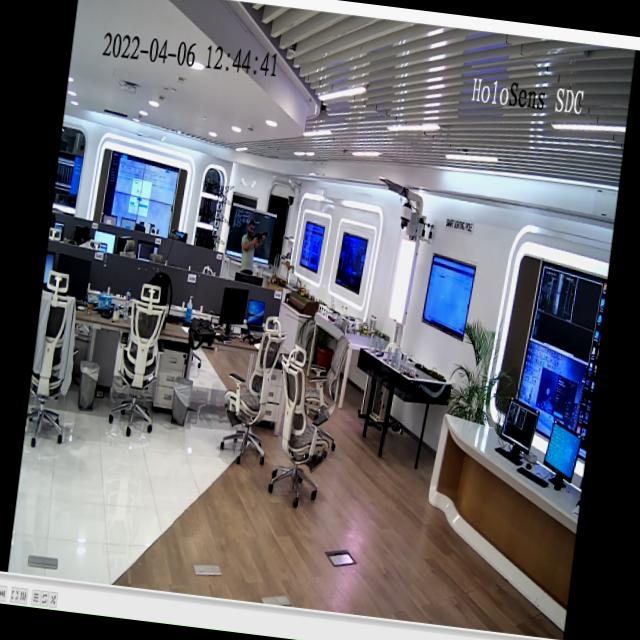long weapon: (244, 225, 272, 252)
